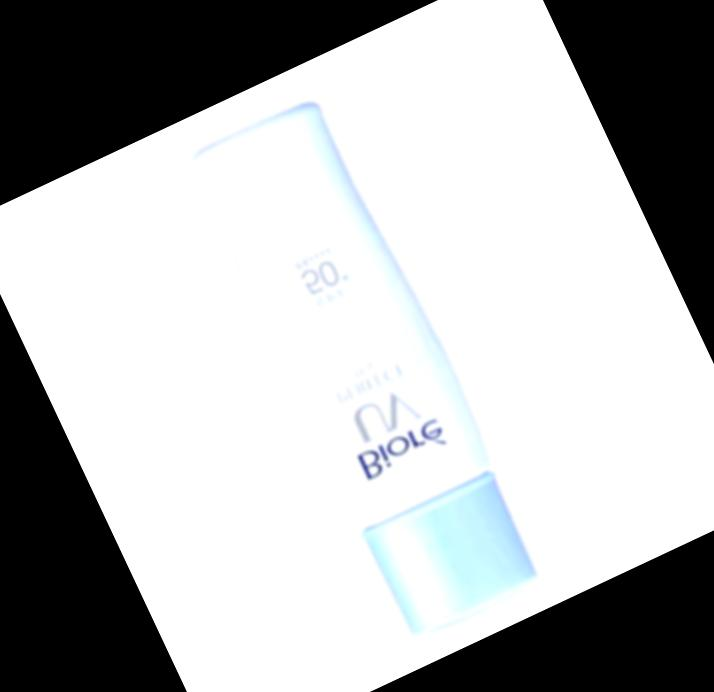cosmetic: (173, 89, 560, 647)
